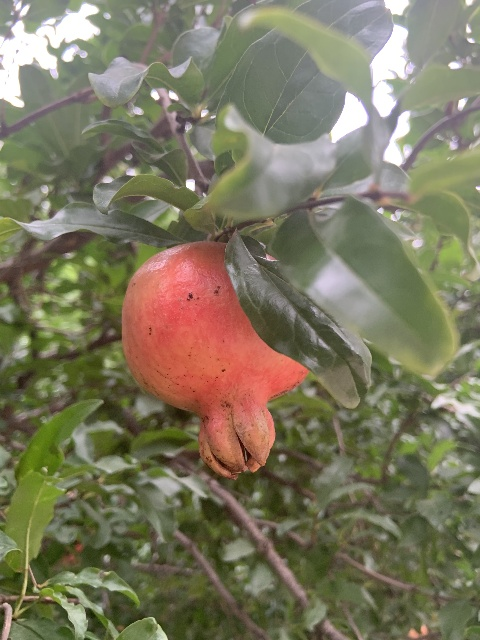ripe: (120, 240, 309, 477)
